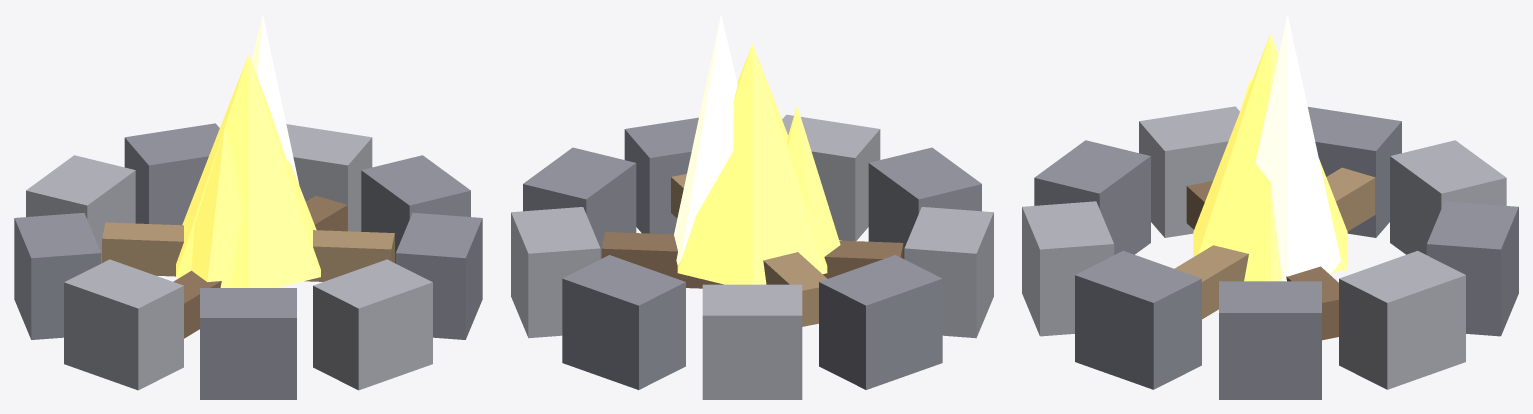
Rendered from fire_pit.glb.
The picture shows the model from 3 angles, left to right: view 1: azimuth 30°, elevation 25°; view 2: azimuth 150°, elevation 25°; view 3: azimuth 270°, elevation 25°; orthographic projection. The views are drawn at different scales.
Parts seen in each view (by area): view 1: flame_a, stone5, stone7, stone6, stone4, stone8, log_b, stone2, stone0, stone3, stone1, flame_c (+2 smaller); view 2: flame_a, stone2, stone4, stone3, stone1, stone5, stone6, stone0, stone7, flame_b, stone8, log_a (+2 smaller); view 3: stone1, stone8, stone0, flame_b, flame_a, stone2, stone7, stone3, stone6, stone5, stone4, log_b (+1 smaller).
Part boxes in pixels (<box>): flame_a: <box>176,55,320,287</box>; stone5: <box>64,259,183,390</box>; stone7: <box>313,259,432,390</box>; stone6: <box>200,288,296,399</box>; stone4: <box>14,212,101,339</box>; stone8: <box>395,212,482,339</box>; log_b: <box>102,222,394,281</box>; stone2: <box>124,123,219,225</box>; stone0: <box>361,155,470,263</box>; stone3: <box>26,155,135,263</box>; stone1: <box>286,124,372,231</box>; flame_c: <box>191,129,242,287</box>; flame_a: <box>677,44,827,284</box>; stone2: <box>562,255,685,389</box>; stone4: <box>819,255,942,389</box>; stone3: <box>702,284,802,399</box>; stone1: <box>511,207,600,338</box>; stone5: <box>904,207,993,338</box>; stone6: <box>868,147,981,258</box>; stone0: <box>523,147,636,258</box>; stone7: <box>782,114,880,240</box>; flame_b: <box>674,14,737,264</box>; stone8: <box>624,117,698,234</box>; log_a: <box>601,232,903,288</box>; stone1: <box>1339,250,1465,389</box>; stone8: <box>1075,250,1201,389</box>; stone0: <box>1219,281,1321,399</box>; flame_b: <box>1255,15,1340,281</box>; flame_a: <box>1193,33,1347,281</box>; stone2: <box>1426,201,1518,336</box>; stone7: <box>1022,201,1114,336</box>; stone3: <box>1390,140,1506,254</box>; stone6: <box>1034,140,1150,254</box>; stone5: <box>1139,106,1239,237</box>; stone4: <box>1308,107,1401,237</box>; log_b: <box>1174,167,1375,319</box>.
Bounding box in the file's own units: 1.43 × 0.95 × 1.45.
